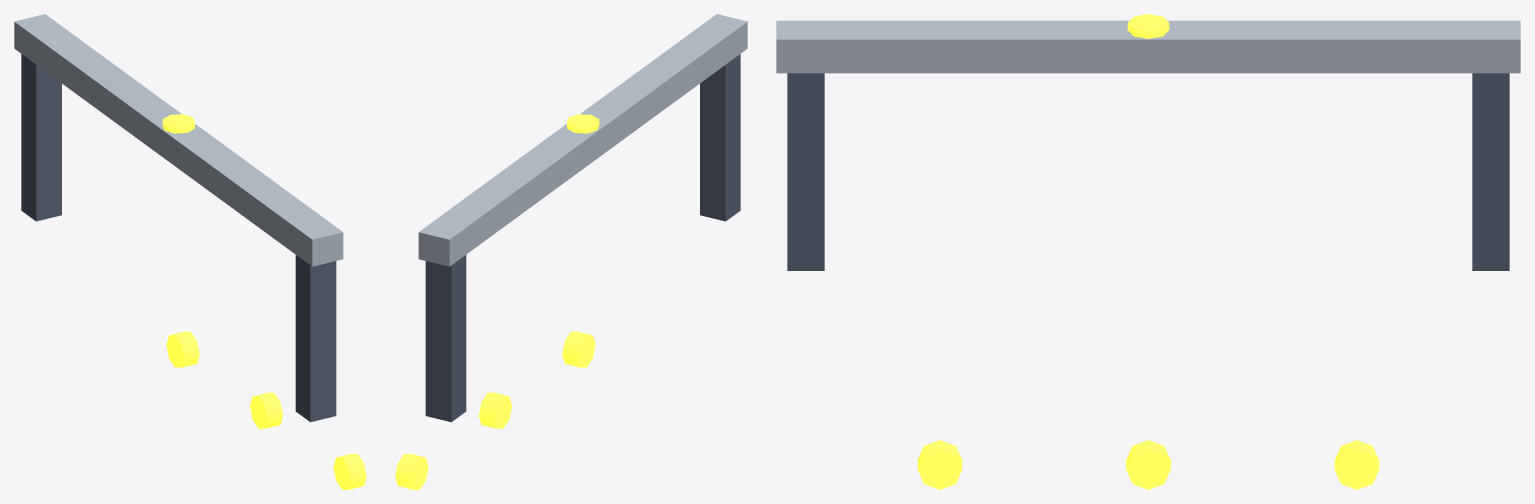
File: tower_nova_rate_s3.glb
3 renders of one model, left to right at view 1: azimuth 30°, elevation 25°; view 2: azimuth 150°, elevation 25°; view 3: azimuth 270°, elevation 25°, orthographic. The views are drawn at different scales.
Parts seen in each view (by area): view 1: nova_hoist_rail, nova_hoist_rail_post-0.46, nova_hoist_rail_post0.46, nova_ready_lamp0.28, nova_ready_lamp-0.28, nova_ready_lamp0, nova_up_rate_l2_stud; view 2: nova_hoist_rail, nova_hoist_rail_post0.46, nova_hoist_rail_post-0.46, nova_ready_lamp-0.28, nova_ready_lamp0.28, nova_ready_lamp0, nova_up_rate_l2_stud; view 3: nova_hoist_rail, nova_hoist_rail_post-0.46, nova_hoist_rail_post0.46, nova_ready_lamp-0.28, nova_ready_lamp0.28, nova_ready_lamp0, nova_up_rate_l2_stud.
Boxes of the visible parts, left/top/right/bottom form: nova_hoist_rail: left=14, top=14, right=343, bottom=266; nova_hoist_rail_post-0.46: left=295, top=255, right=336, bottom=422; nova_hoist_rail_post0.46: left=21, top=54, right=61, bottom=221; nova_ready_lamp0.28: left=166, top=331, right=199, bottom=367; nova_ready_lamp-0.28: left=333, top=453, right=366, bottom=489; nova_ready_lamp0: left=250, top=392, right=283, bottom=428; nova_up_rate_l2_stud: left=162, top=114, right=194, bottom=133; nova_hoist_rail: left=418, top=14, right=747, bottom=266; nova_hoist_rail_post0.46: left=425, top=255, right=466, bottom=422; nova_hoist_rail_post-0.46: left=700, top=54, right=740, bottom=221; nova_ready_lamp-0.28: left=562, top=331, right=595, bottom=367; nova_ready_lamp0.28: left=395, top=453, right=428, bottom=489; nova_ready_lamp0: left=478, top=392, right=511, bottom=428; nova_up_rate_l2_stud: left=567, top=114, right=599, bottom=133; nova_hoist_rail: left=776, top=20, right=1520, bottom=73; nova_hoist_rail_post-0.46: left=787, top=73, right=824, bottom=270; nova_hoist_rail_post0.46: left=1472, top=73, right=1509, bottom=270; nova_ready_lamp-0.28: left=917, top=440, right=962, bottom=489; nova_ready_lamp0.28: left=1334, top=440, right=1379, bottom=489; nova_ready_lamp0: left=1126, top=440, right=1170, bottom=489; nova_up_rate_l2_stud: left=1127, top=14, right=1169, bottom=38.
Size of the model in its own units: 0.215 by 0.606 by 1.
